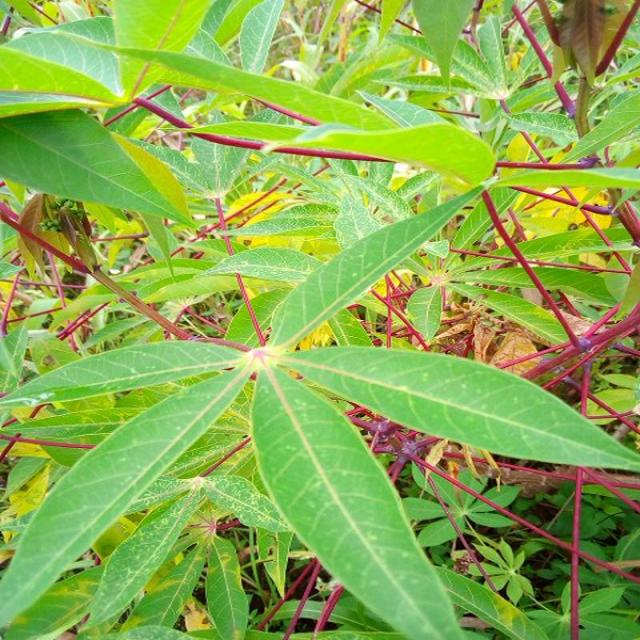cassava leaf: (0, 1, 638, 637), (250, 361, 464, 638), (282, 342, 638, 473)
